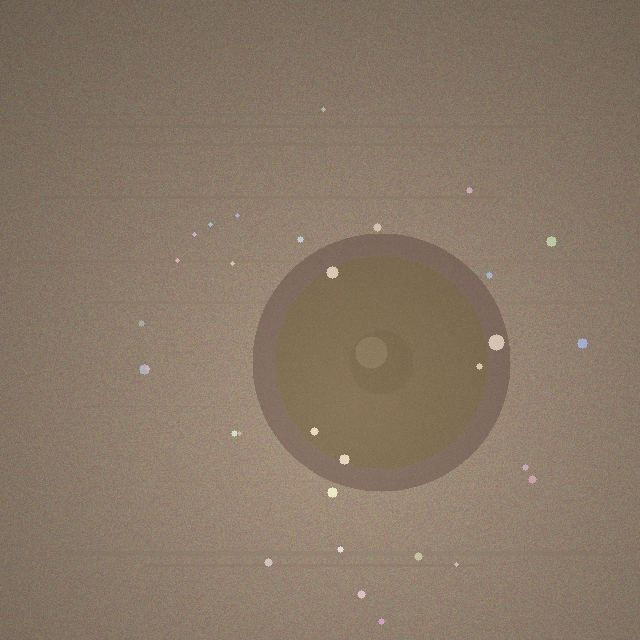overburn: (252, 233, 510, 491)
